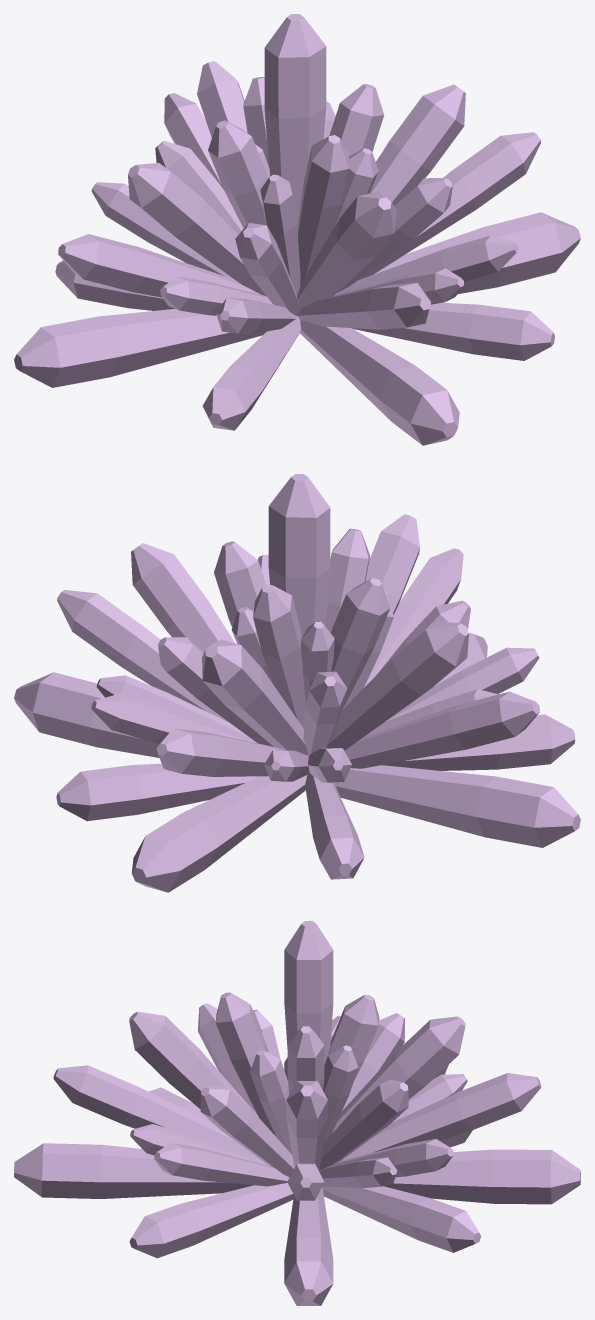
Rendered from crystals.fbx.
3 views of the same model, one above another, from view 1: azimuth 30°, elevation 25°; view 2: azimuth 150°, elevation 25°; view 3: azimuth 270°, elevation 25° (orthographic). The views are drawn at different scales.
Visible parts, largest first — view 1: Circle.060, Circle.058, Circle.084, Circle.116, Circle.066, Circle.064, Circle.062, Circle.086, Circle.074, Circle.072, Circle.092, Circle.088 (+17 smaller); view 2: Circle.060, Circle.076, Circle.058, Circle.074, Circle.066, Circle.108, Circle.078, Circle.072, Circle.062, Circle.064, Circle.092, Circle.080 (+20 smaller); view 3: Circle.084, Circle.076, Circle.082, Circle.116, Circle.090, Circle.108, Circle.058, Circle.086, Circle.062, Circle.078, Circle.118, Circle.122 (+16 smaller).
Boxes of the visible parts, x1,y1,x2,y2 form: Circle.060: [14, 309, 266, 387]; Circle.058: [264, 14, 326, 228]; Circle.084: [300, 320, 459, 445]; Circle.116: [352, 302, 554, 360]; Circle.066: [128, 163, 265, 295]; Circle.064: [370, 84, 465, 204]; Circle.062: [373, 212, 580, 293]; Circle.086: [297, 191, 396, 308]; Circle.074: [58, 234, 260, 297]; Circle.072: [358, 132, 540, 280]; Circle.092: [202, 316, 301, 430]; Circle.088: [297, 135, 348, 286]; Circle.060: [333, 765, 580, 847]; Circle.076: [131, 775, 307, 892]; Circle.058: [268, 474, 330, 636]; Circle.074: [344, 691, 539, 768]; Circle.066: [327, 621, 468, 750]; Circle.108: [56, 763, 258, 821]; Circle.078: [202, 639, 307, 755]; Circle.072: [57, 590, 229, 722]; Circle.062: [14, 672, 159, 757]; Circle.064: [131, 543, 234, 651]; Circle.092: [382, 714, 575, 770]; Circle.080: [253, 584, 305, 728]; Circle.084: [14, 1143, 252, 1198]; Circle.076: [383, 1149, 580, 1204]; Circle.082: [341, 1073, 541, 1160]; Circle.116: [129, 1183, 293, 1258]; Circle.090: [53, 1065, 262, 1161]; Circle.108: [322, 1186, 481, 1252]; Circle.058: [284, 921, 333, 1064]; Circle.086: [129, 1011, 258, 1117]; Circle.062: [284, 1188, 333, 1305]; Circle.078: [332, 1016, 465, 1133]; Circle.118: [200, 1084, 294, 1177]; Circle.122: [154, 1143, 289, 1186].
Size of the model in its own units: 181 by 96.85 by 181.
